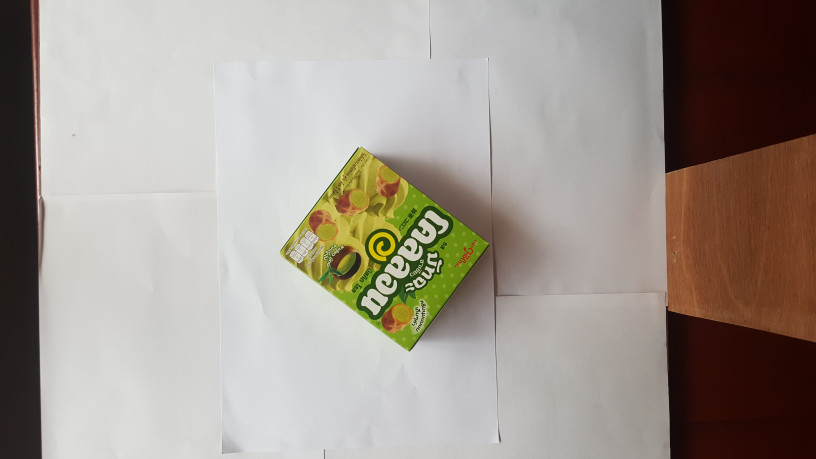collon-matcha: (278, 145, 491, 354)
